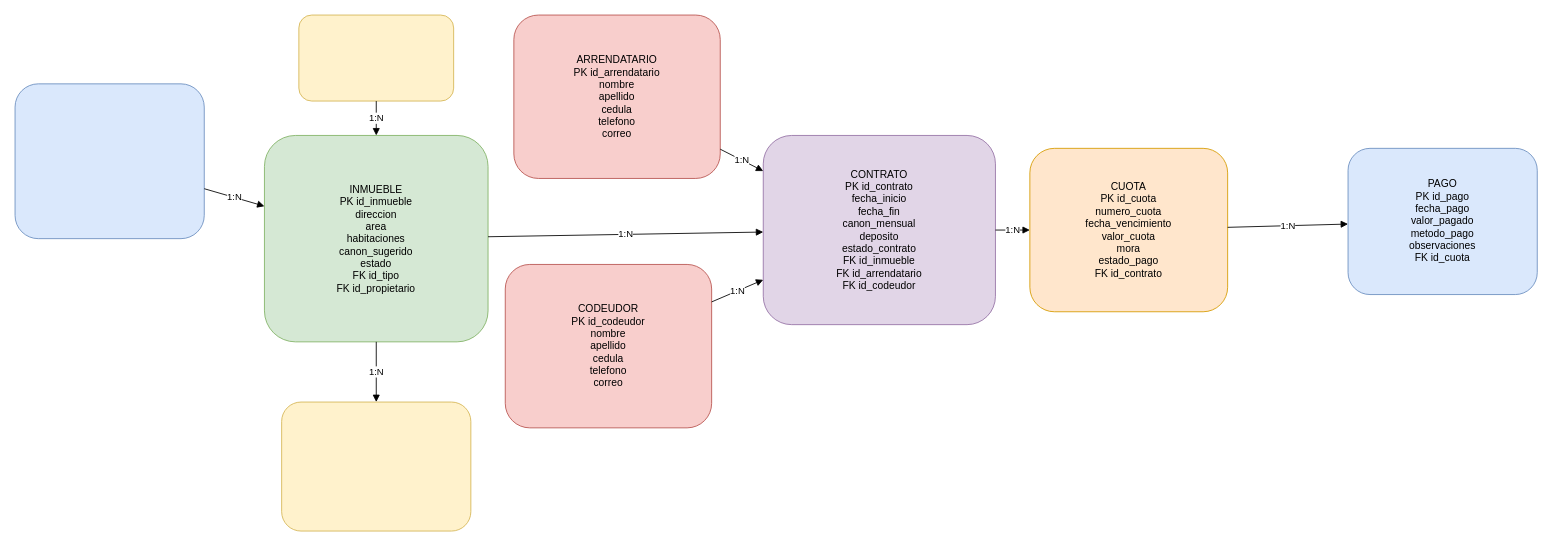
Image size: 1552x546. Some labels were removed from this diagram. The shapes that lost their labels are listed below. From the top down, each one's centre as x and y in pixels, then its label:
the point at 376,57: TIPO_INMUEBLE PK id_tipo nombre_tipo
the point at 109,161: PROPIETARIO PK id_propietario nombres apellidos documento telefono correo
the point at 376,466: MANTENIMIENTO PK id_mantenimiento descripcion costo fecha FK id_inmueble
